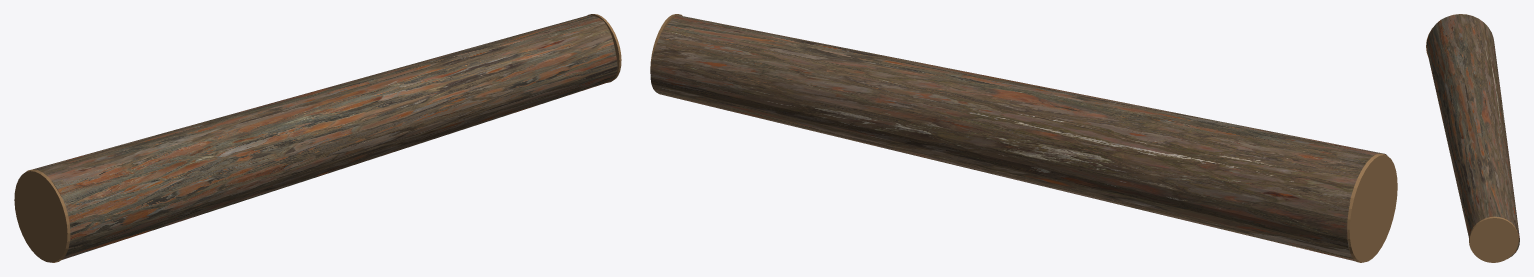
File: detail_log.glb
The picture shows the model from 3 angles, left to right: view 1: azimuth 30°, elevation 25°; view 2: azimuth 150°, elevation 25°; view 3: azimuth 270°, elevation 25°; orthographic projection. The views are drawn at different scales.
Parts seen in each view (by area): view 1: Cone, ExposedTreeRings; view 2: Cone, ExposedTreeRings; view 3: Cone, ExposedTreeRings.001.
Boxes of the visible parts, <box> form: Cone: <box>33,15,617,259</box>; ExposedTreeRings: <box>14,169,70,262</box>; Cone: <box>650,15,1387,261</box>; ExposedTreeRings: <box>1347,153,1397,262</box>; Cone: <box>1426,14,1519,258</box>; ExposedTreeRings.001: <box>1469,216,1518,262</box>.
Size of the model in its own units: 4.27 by 0.6059 by 0.8325.
2 materials, 1 textured.
